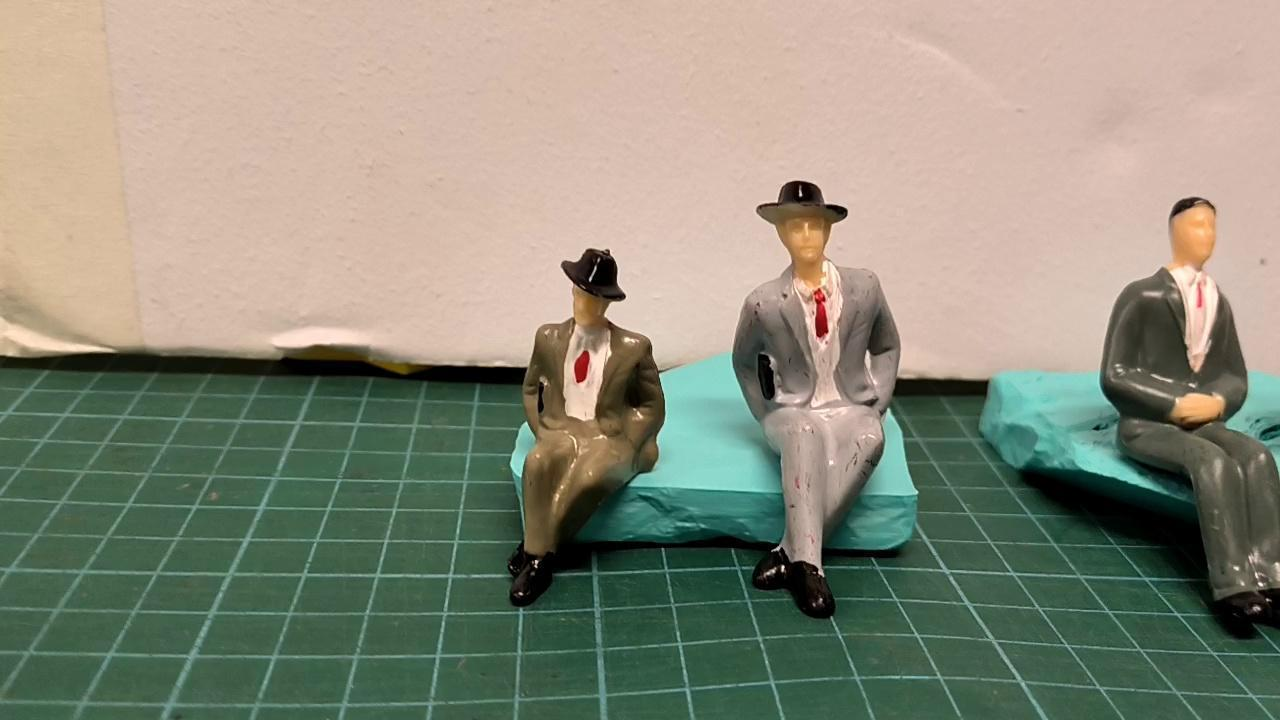human: (1103, 187, 1280, 636), (729, 178, 903, 620), (501, 245, 667, 614)
